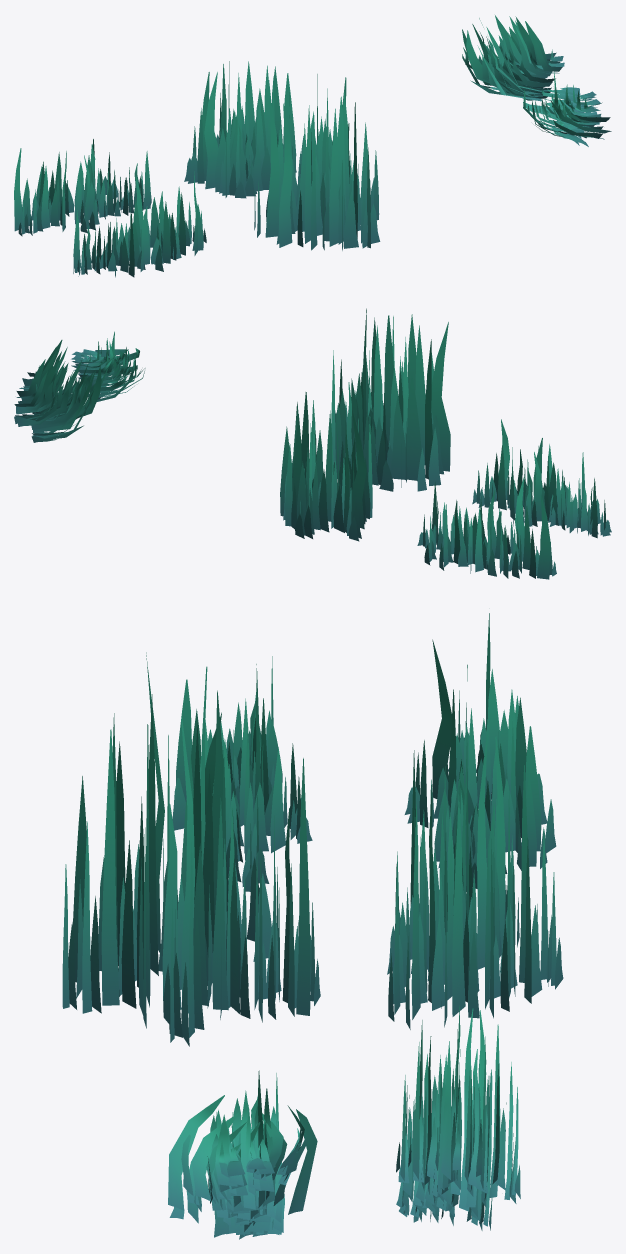
The model's file is Grass.fbx.
3 renders of one model, top to bottom at view 1: azimuth 30°, elevation 25°; view 2: azimuth 150°, elevation 25°; view 3: azimuth 270°, elevation 25°, orthographic. The views are drawn at different scales.
Visible parts, largest first — view 1: GrassLongVar2, GrassLongVar1, GrassShortVar1, GrassShortVar2, GrassOnWallVar1, GrassOnWallVar2; view 2: GrassLongVar2, GrassLongVar1, GrassShortVar1, GrassShortVar2, GrassOnWallVar1, GrassOnWallVar2; view 3: GrassLongVar2, GrassLongVar1, GrassOnWallVar1, GrassShortVar1, GrassOnWallVar2, GrassShortVar2.
Boxes of the visible parts, x1,y1,x2,y2 form: GrassLongVar2: [254, 74, 380, 250]; GrassLongVar1: [184, 61, 303, 198]; GrassShortVar1: [14, 139, 151, 236]; GrassShortVar2: [73, 171, 206, 277]; GrassOnWallVar1: [462, 15, 564, 101]; GrassOnWallVar2: [523, 72, 611, 146]; GrassLongVar2: [331, 308, 450, 491]; GrassLongVar1: [280, 392, 372, 541]; GrassShortVar1: [417, 477, 556, 579]; GrassShortVar2: [472, 419, 611, 538]; GrassOnWallVar1: [14, 340, 109, 442]; GrassOnWallVar2: [71, 331, 145, 401]; GrassLongVar2: [62, 652, 320, 1046]; GrassLongVar1: [387, 728, 563, 1029]; GrassOnWallVar1: [396, 1005, 520, 1230]; GrassShortVar1: [404, 613, 556, 891]; GrassOnWallVar2: [168, 1070, 317, 1239]; GrassShortVar2: [172, 656, 312, 891].
Size of the model in its own units: 165 by 43.98 by 67.2.
